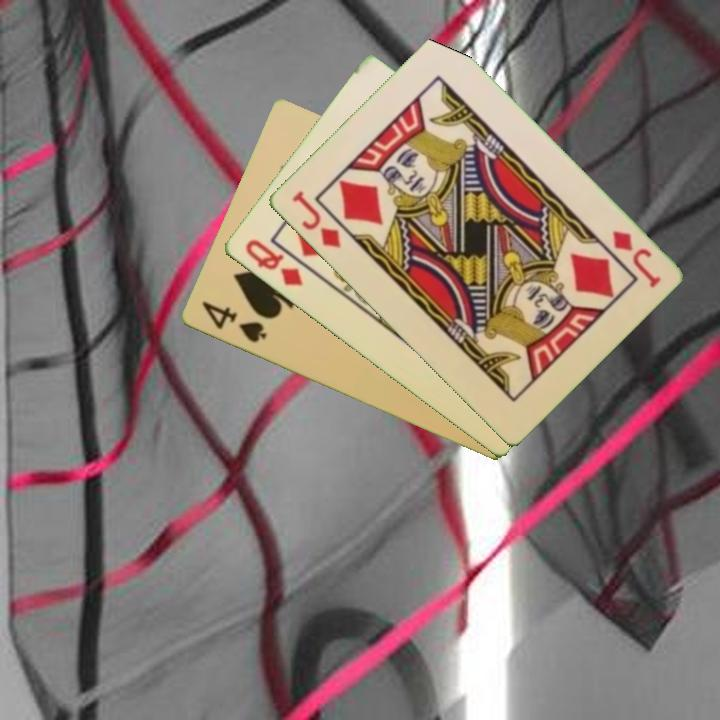4s: (198, 297, 269, 346)
Jd: (287, 187, 343, 252), (608, 227, 664, 291)
Qd: (241, 235, 305, 289)
